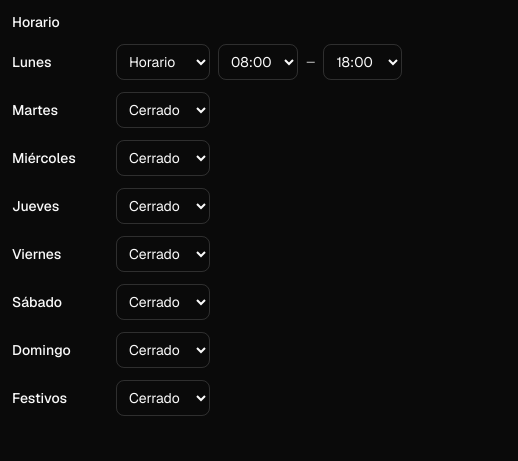
Test: ScheduleEditor › SCEN-004a (editor): an inverted range shows an inline error
Step 1. Select "18:00" in the dropdown named "Inicio Lunes" → (258, 62), box x1=218 y1=44 x2=298 y2=80
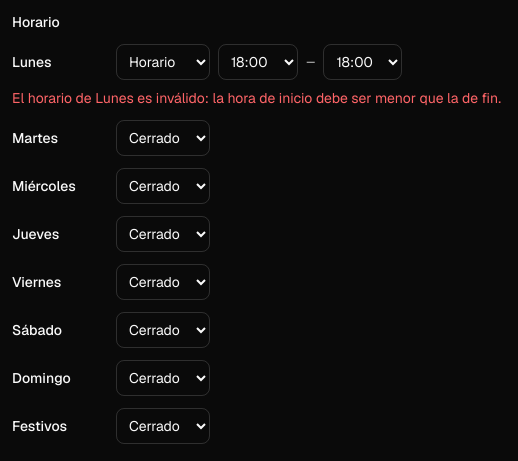
Result: the message is shown at x1=12 y1=89 x2=501 y2=107
Result: the message shows "Lunes" at x1=95 y1=89 x2=134 y2=107
